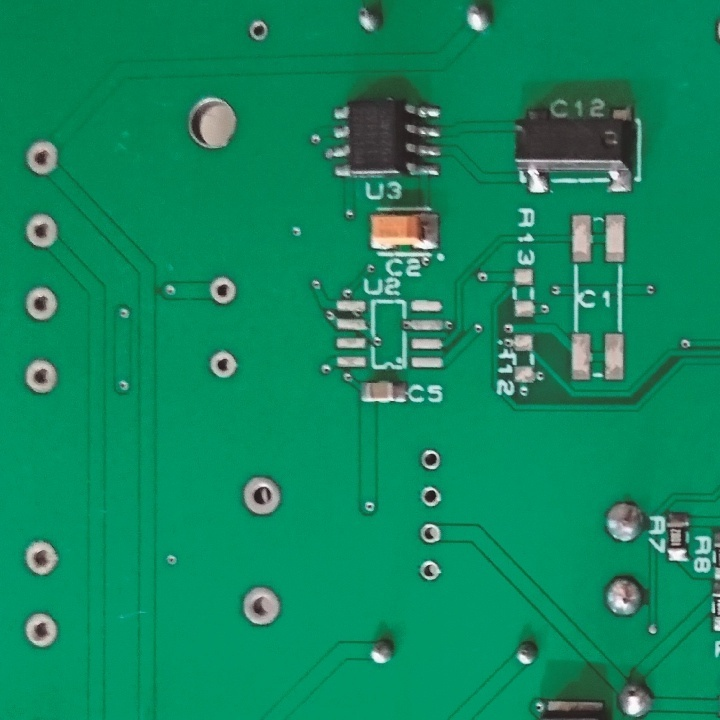F: (239, 583, 284, 633), (241, 471, 284, 522), (19, 538, 61, 580), (22, 609, 62, 652), (21, 138, 61, 180), (21, 281, 61, 322), (21, 212, 62, 251), (24, 357, 59, 397), (206, 346, 241, 383), (207, 275, 239, 307), (416, 518, 445, 549), (416, 557, 444, 584), (248, 18, 272, 45), (420, 484, 444, 511), (420, 447, 444, 472)
